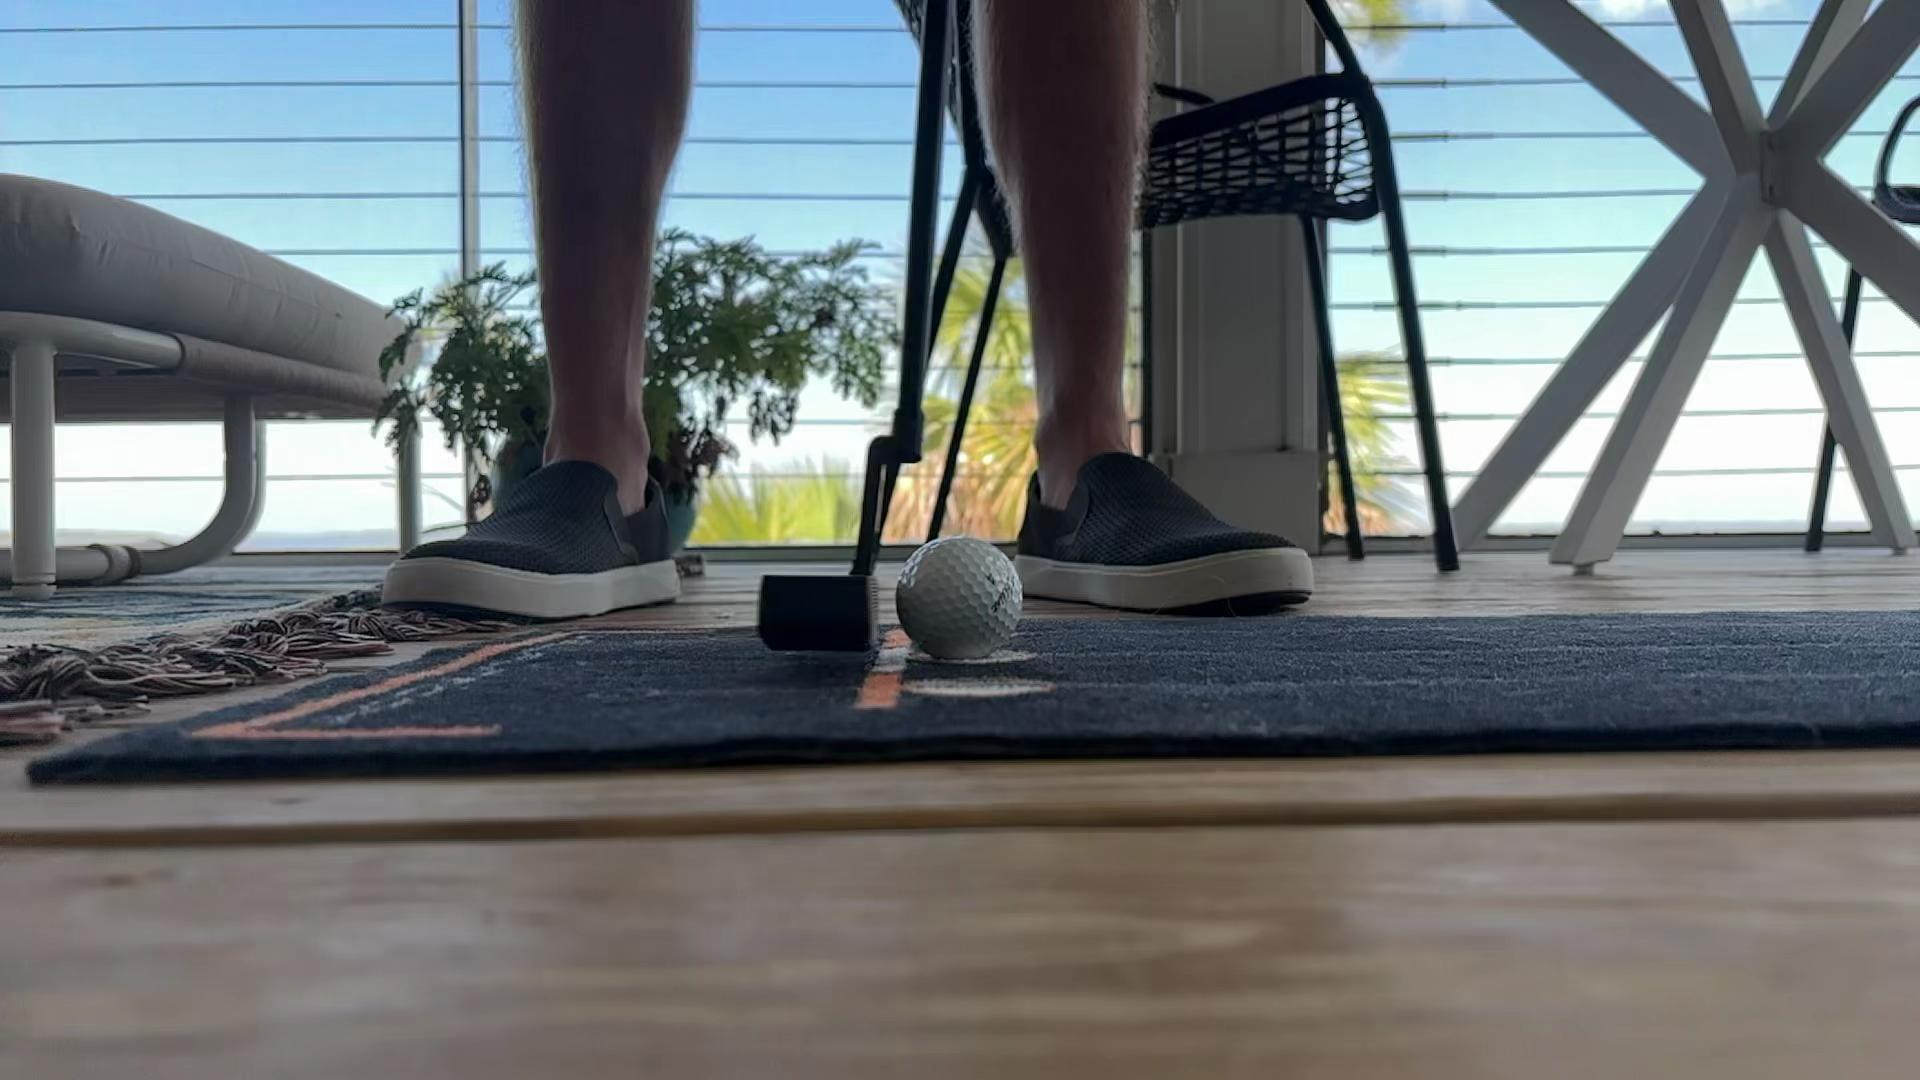golfball: (894, 538, 1024, 660)
